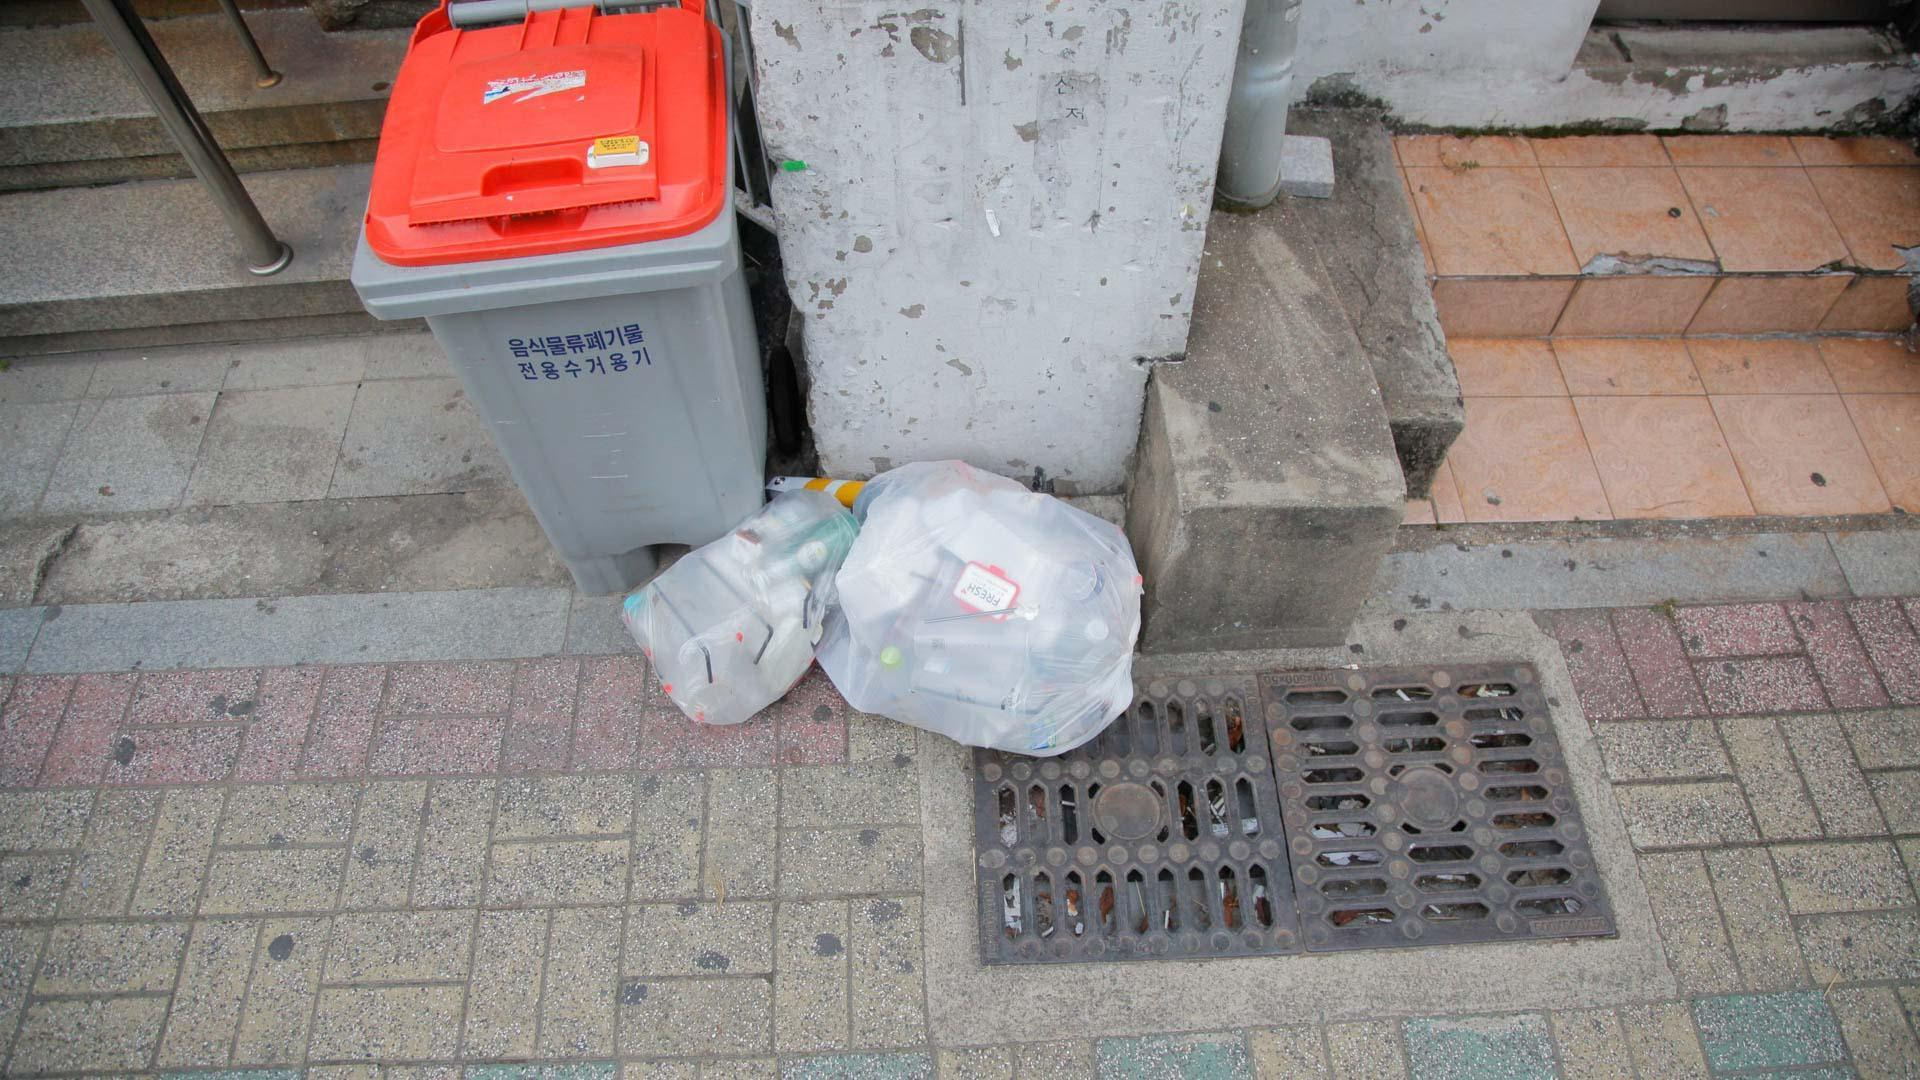white_bag: (808, 446, 1146, 765), (605, 479, 860, 738)
